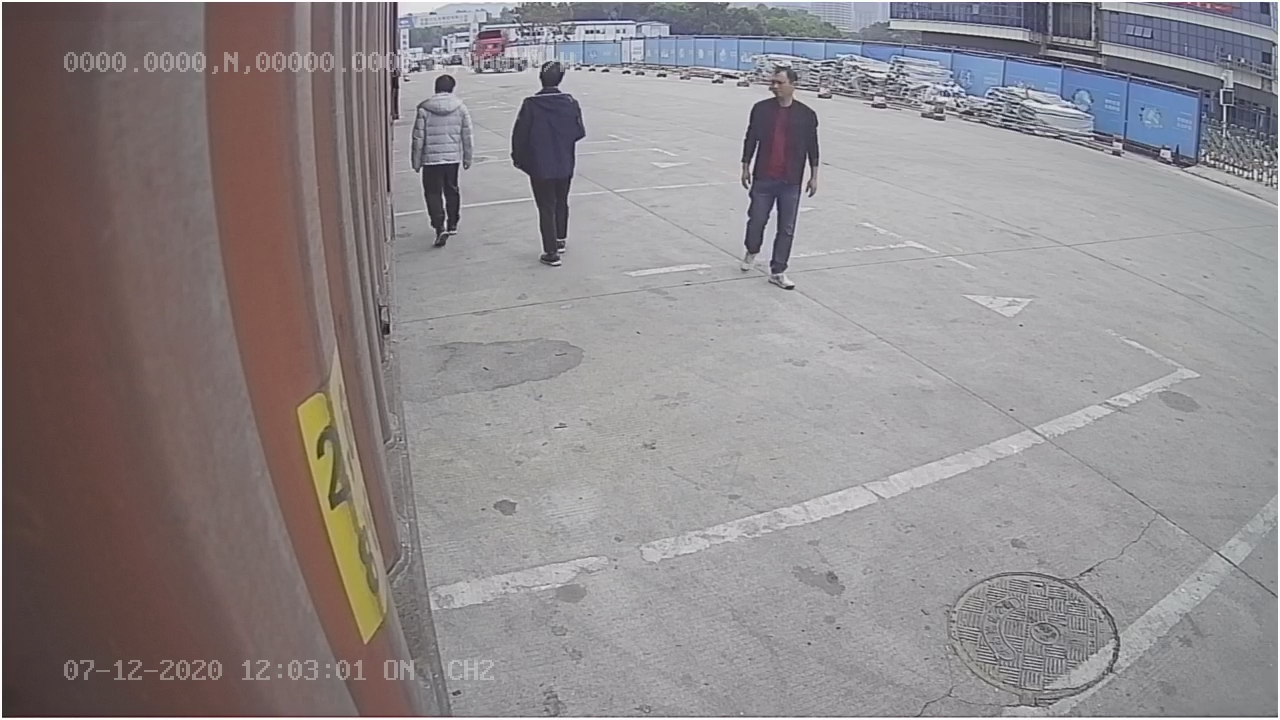person: (738, 62, 823, 290)
